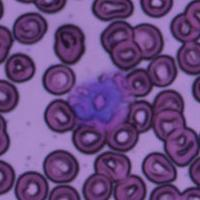E: (67, 70, 134, 132)
